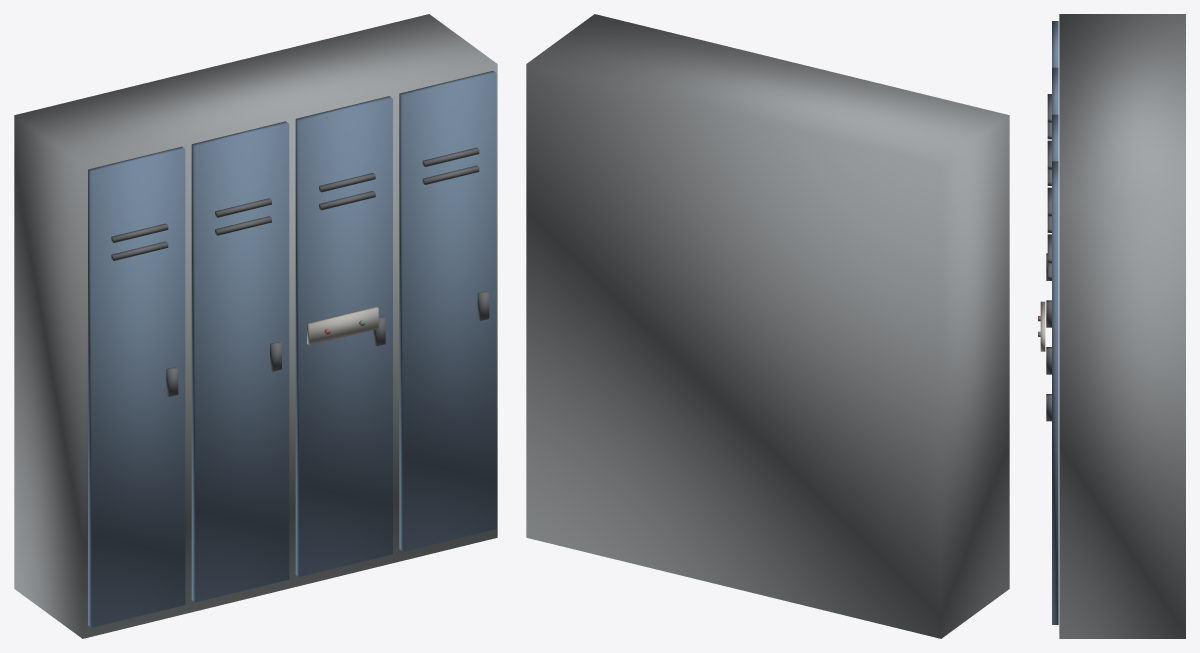
Rendered from school_locker_bank__reinforced.glb.
The picture shows the model from 3 angles, left to right: view 1: azimuth 30°, elevation 25°; view 2: azimuth 150°, elevation 25°; view 3: azimuth 270°, elevation 25°; orthographic projection. The views are drawn at different scales.
Visible parts, largest first — view 1: world; view 2: world; view 3: world.
Boxes of the visible parts, x1=… form: world: x1=14, y1=14, x2=497, y2=638; world: x1=526, y1=14, x2=1009, y2=638; world: x1=1038, y1=14, x2=1185, y2=638.
Bounding box in the file's own units: 1.73 × 1.89 × 0.5778.
